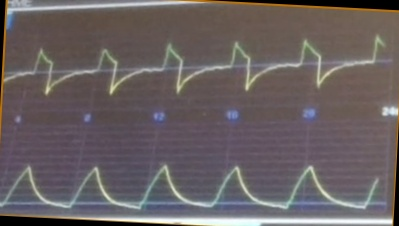Normal Flow: (5, 32, 386, 102)
Normal Volume: (1, 153, 380, 211)
